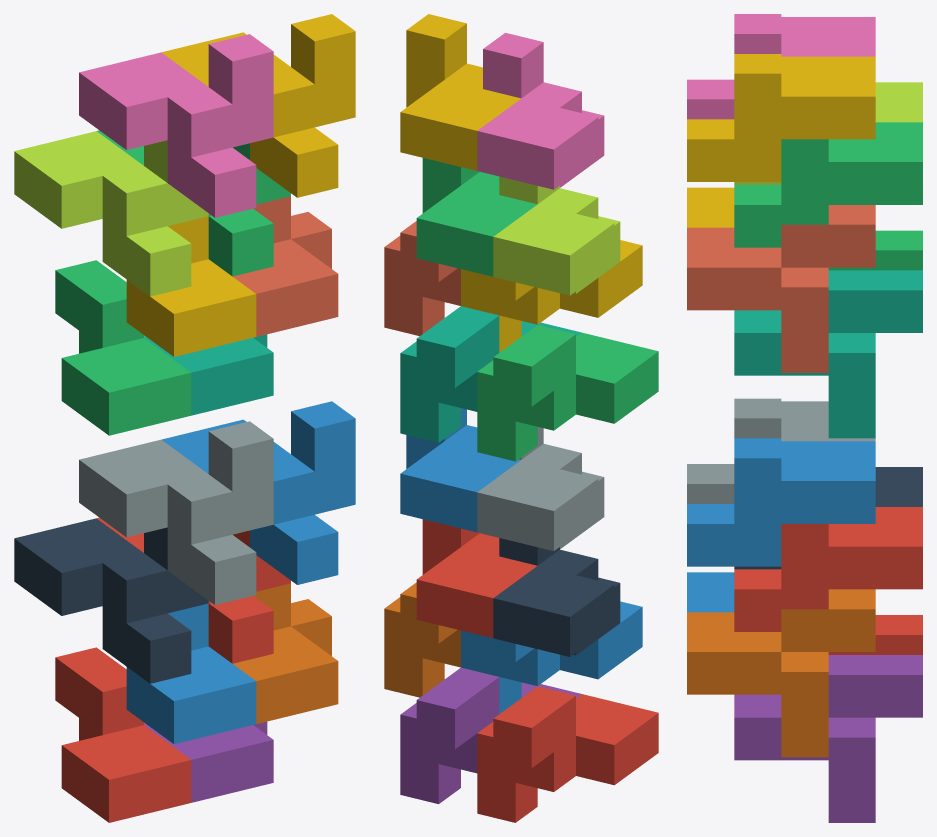
File: tiling.obj
The picture shows the model from 3 angles, left to right: view 1: azimuth 30°, elevation 25°; view 2: azimuth 150°, elevation 25°; view 3: azimuth 270°, elevation 25°; orthographic projection. The views are drawn at different scales.
Visible parts, largest first — view 1: copy_2_domain_2, copy_2_domain_4, copy_2_domain_1, copy_2_domain_3, copy_1_domain_1, copy_1_domain_3, copy_2_domain_8, copy_2_domain_6, copy_1_domain_2, copy_1_domain_4, copy_1_domain_6, copy_1_domain_8 (+4 smaller); view 2: copy_1_domain_3, copy_1_domain_1, copy_2_domain_4, copy_2_domain_8, copy_2_domain_3, copy_2_domain_1, copy_2_domain_2, copy_1_domain_5, copy_1_domain_7, copy_2_domain_5, copy_2_domain_7, copy_2_domain_6 (+4 smaller); view 3: copy_1_domain_8, copy_1_domain_6, copy_2_domain_8, copy_2_domain_6, copy_1_domain_5, copy_1_domain_7, copy_2_domain_7, copy_2_domain_5, copy_2_domain_4, copy_2_domain_2, copy_1_domain_3, copy_2_domain_3 (+4 smaller).
Part boxes in pixels (<box>): copy_2_domain_2: <box>79,421,273,604</box>; copy_2_domain_4: <box>79,34,273,217</box>; copy_2_domain_1: <box>14,518,208,683</box>; copy_2_domain_3: <box>14,131,208,296</box>; copy_1_domain_1: <box>55,647,191,822</box>; copy_1_domain_3: <box>55,260,191,435</box>; copy_2_domain_8: <box>161,14,355,197</box>; copy_2_domain_6: <box>161,401,355,584</box>; copy_1_domain_2: <box>126,603,256,743</box>; copy_1_domain_4: <box>126,216,256,356</box>; copy_1_domain_6: <box>232,583,338,723</box>; copy_1_domain_8: <box>233,196,338,336</box>; copy_1_domain_3: <box>477,325,658,461</box>; copy_1_domain_1: <box>477,686,658,822</box>; copy_2_domain_4: <box>477,32,604,189</box>; copy_2_domain_8: <box>400,14,520,170</box>; copy_2_domain_3: <box>493,176,620,295</box>; copy_2_domain_1: <box>493,538,620,656</box>; copy_2_domain_2: <box>477,427,604,550</box>; copy_1_domain_5: <box>400,667,581,804</box>; copy_1_domain_7: <box>400,306,581,442</box>; copy_2_domain_5: <box>416,519,537,638</box>; copy_2_domain_7: <box>416,158,537,276</box>; copy_2_domain_6: <box>400,408,520,532</box>; copy_1_domain_8: <box>687,205,875,372</box>; copy_1_domain_6: <box>687,589,875,757</box>; copy_2_domain_8: <box>687,54,875,181</box>; copy_2_domain_6: <box>687,438,875,566</box>; copy_1_domain_5: <box>734,655,922,822</box>; copy_1_domain_7: <box>734,270,922,438</box>; copy_2_domain_7: <box>734,122,922,247</box>; copy_2_domain_5: <box>734,507,922,631</box>; copy_2_domain_4: <box>687,14,875,119</box>; copy_2_domain_2: <box>687,398,875,503</box>; copy_1_domain_3: <box>828,230,922,270</box>; copy_2_domain_3: <box>734,82,922,184</box>.
Size of the model in its own units: 6 by 18 by 5.
